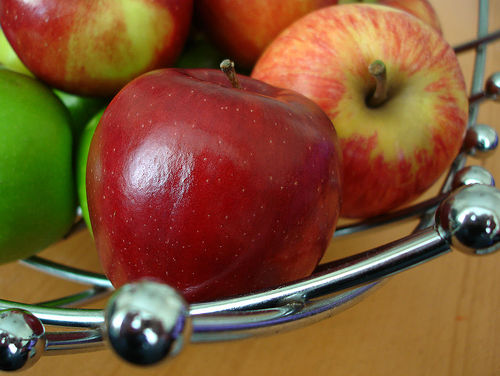apple: (83, 56, 343, 305), (250, 4, 467, 220), (0, 0, 195, 94)
